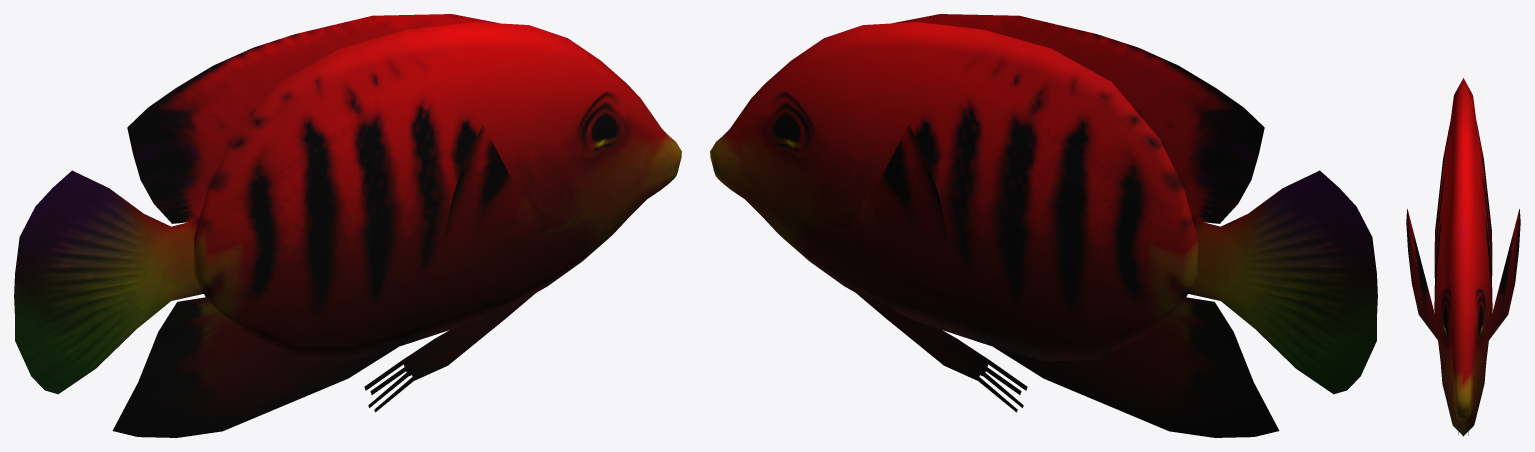
The model's file is flame_angelfish.glb.
3 views of the same model, side by side, from view 1: azimuth 30°, elevation 25°; view 2: azimuth 150°, elevation 25°; view 3: azimuth 270°, elevation 25° (orthographic). The views are drawn at different scales.
Visible parts, largest first — view 1: FlameAngelfish; view 2: FlameAngelfish; view 3: FlameAngelfish.
Part boxes in pixels (<box>): FlameAngelfish: <box>14,14,681,437</box>; FlameAngelfish: <box>710,14,1377,437</box>; FlameAngelfish: <box>1406,78,1520,436</box>.
Size of the model in its own units: 1 by 0.5673 by 0.1663.
Materials: 1 (1 with a texture image).
